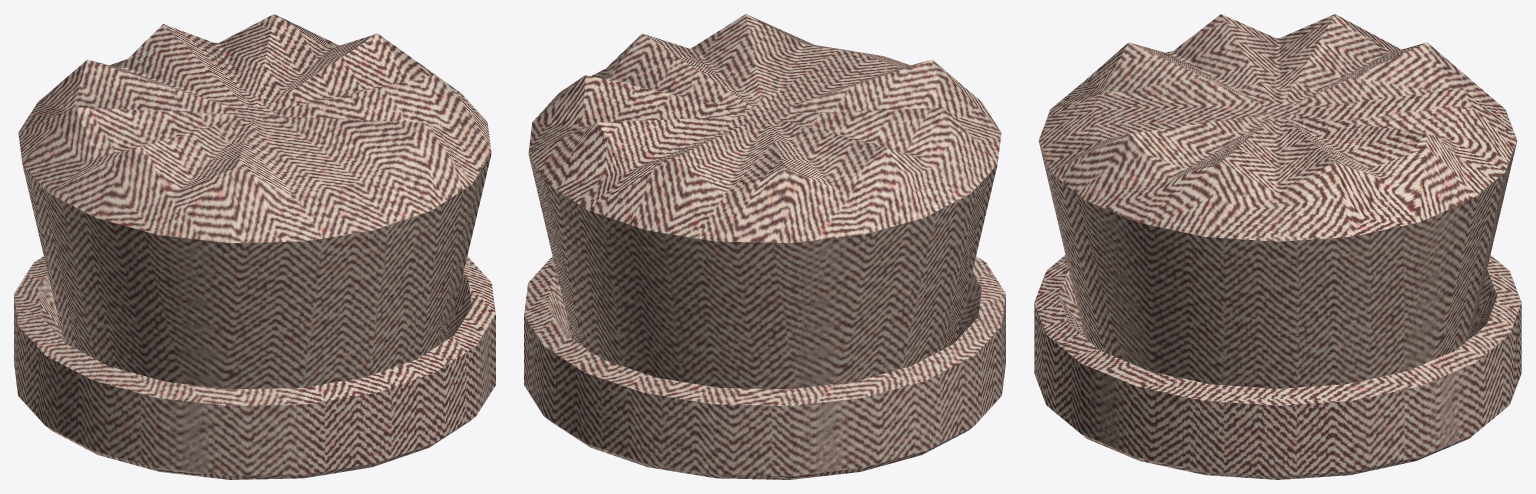
Rendered from stool.fbx.
3 views of the same model, side by side, from view 1: azimuth 30°, elevation 25°; view 2: azimuth 150°, elevation 25°; view 3: azimuth 270°, elevation 25° (orthographic).
Parts seen in each view (by area): view 1: stool; view 2: stool; view 3: stool.
Part boxes in pixels (box(x1,y1,x2,y2)): stool: box(14, 14, 495, 479); stool: box(524, 14, 1005, 479); stool: box(1034, 14, 1521, 479).
Size of the model in its own units: 63.77 by 42.17 by 63.77.
